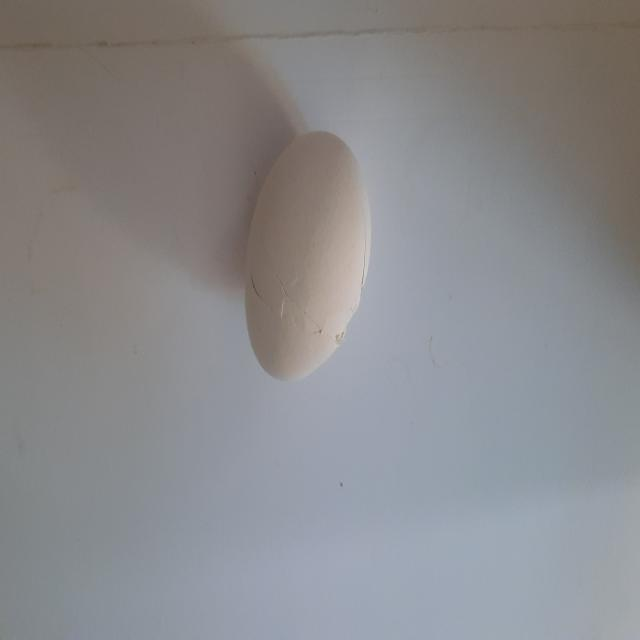egg shell: (239, 116, 373, 389)
